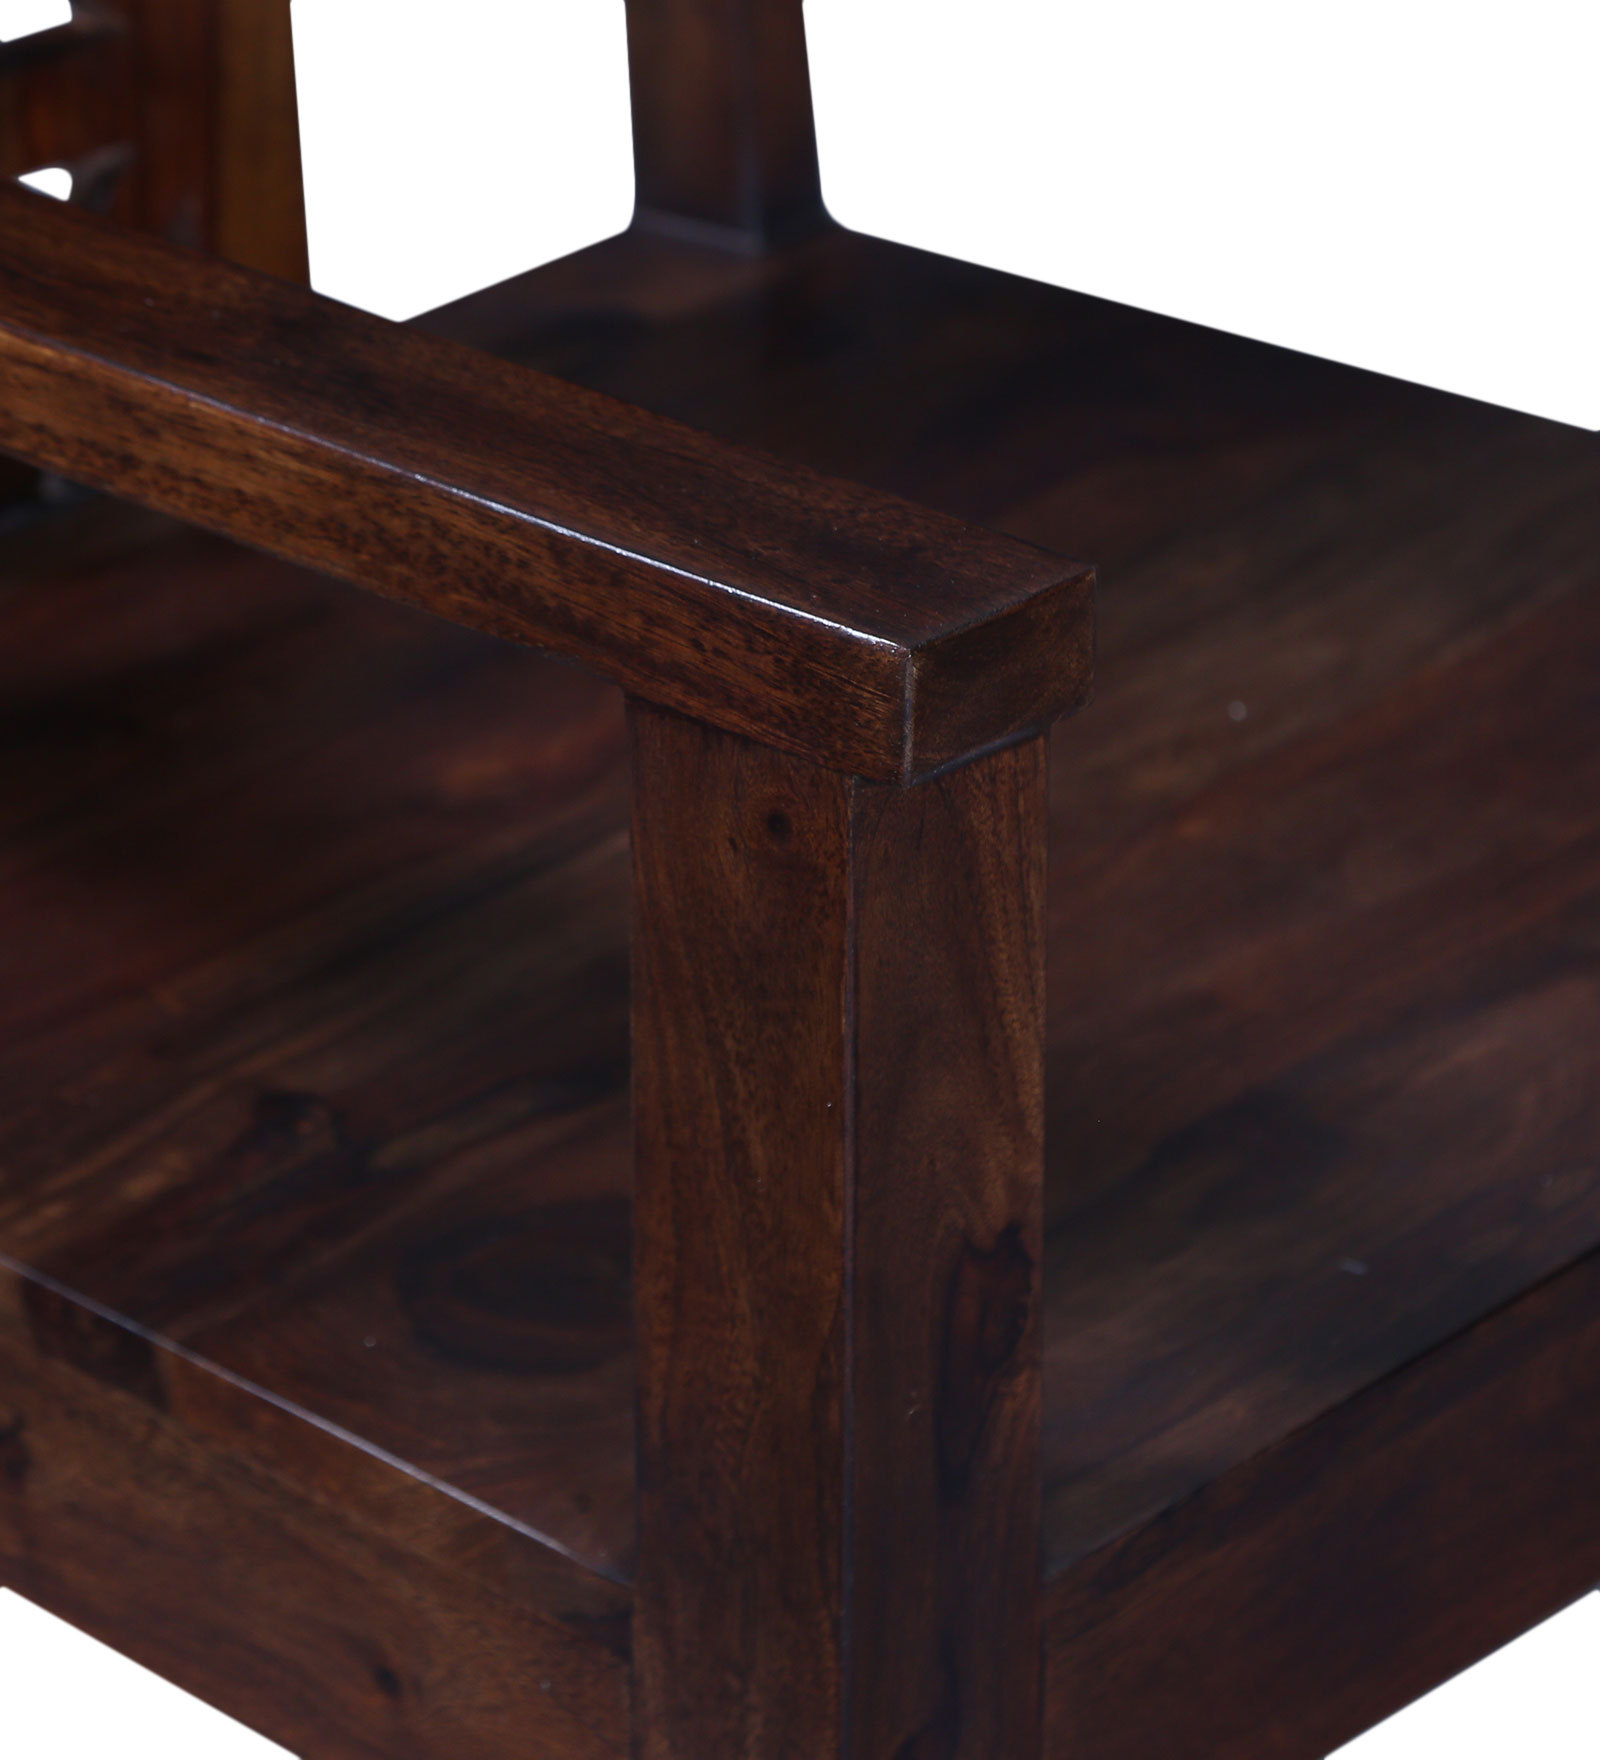Kryss Arm Chair in Provincial Teak Finish by Woodsworth: (5, 8, 1600, 1758)
